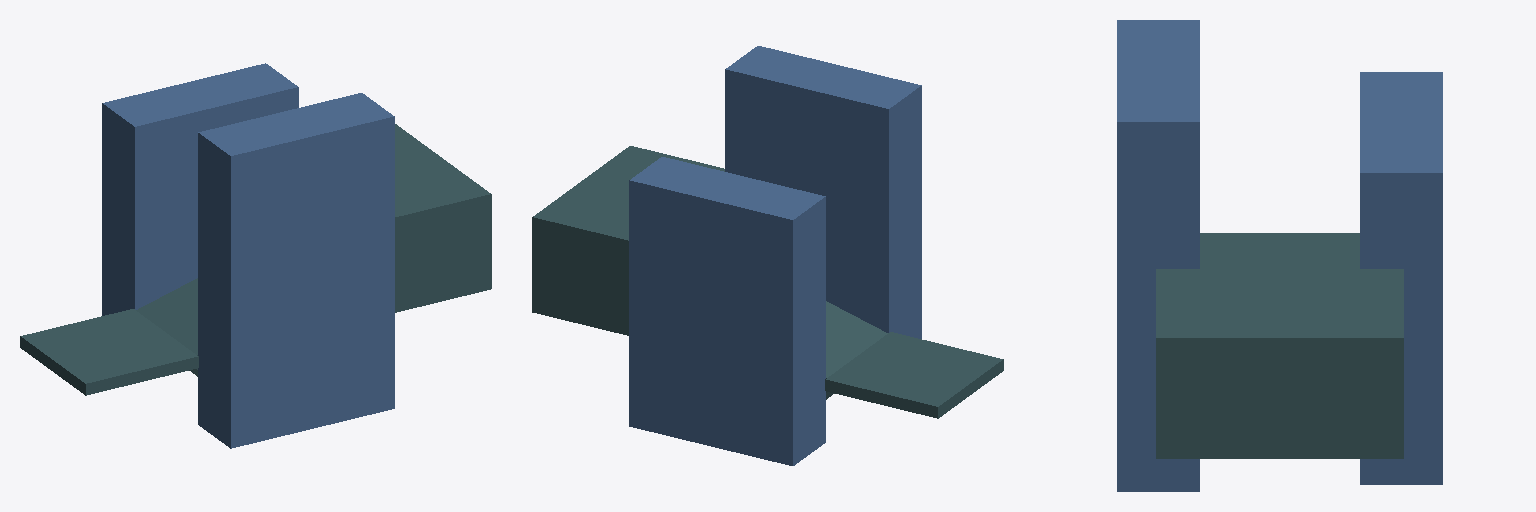
The robot description file, URDF, robot "crapahut":
<?xml version="1.0" ?>
<robot name="crapahut">
  <link name="base_link" />

    <link name="crapahut_start">
    <visual>
      <geometry>
        <mesh filename="package://mc_env_description/meshes/crapahut/crapahut_start.stl" />
      </geometry>
      <material name="Material.001">
        <color rgba="0.29600000381469727 0.41200000047683716 0.42899999022483826 1" />
      </material>
    </visual>

  </link>
  <joint name="crapahut_start" type="fixed">
    <parent link="base_link" />
    <child link="crapahut_start" />
    <origin rpy="0.0 0.0 0.0" xyz="-0.625 0.0 -0.02500000037252903" />
  </joint>

  <link name="crapahut_goal">
    <visual>
      <geometry>
        <mesh filename="package://mc_env_description/meshes/crapahut/crapahut_goal.stl" />
      </geometry>
      <material name="Material.001">
        <color rgba="0.29600000381469727 0.41200000047683716 0.42899999022483826 1" />
      </material>
    </visual>

  </link>
  <joint name="crapahut_goal" type="fixed">
    <parent link="base_link" />
    <child link="crapahut_goal" />
    <origin rpy="0.0 0.0 0.0" xyz="0.6000000238418579 0.0 0.25" />
  </joint>

  <link name="crapahut_right">
    <visual>
      <geometry>
        <mesh filename="package://mc_env_description/meshes/crapahut/crapahut_right.stl" />
      </geometry>
      <material name="Material">
        <color rgba="0.3555205762386322 0.4744111895561218 0.6266514658927917 1" />
      </material>
    </visual>

  </link>
  <joint name="crapahut_right" type="fixed">
    <parent link="base_link" />
    <child link="crapahut_right" />
    <origin rpy="0.0 0.0 0.0" xyz="-0.009999999776482582 -0.3677527606487274 0.32499998807907104" />
  </joint>

  <link name="crapahut_left">
    <visual>
      <geometry>
        <mesh filename="package://mc_env_description/meshes/crapahut/crapahut_left.stl" />
      </geometry>
      <material name="Material">
        <color rgba="0.3555205762386322 0.4744111895561218 0.6266514658927917 1" />
      </material>
    </visual>

  </link>
  <joint name="crapahut_left" type="fixed">
    <parent link="base_link" />
    <child link="crapahut_left" />
    <origin rpy="0.0 0.0 0.0" xyz="-0.009999999776482582 0.3678433895111084 0.25" />
  </joint>

  <link name="crapahut_ramp">
    <visual>
      <geometry>
        <mesh filename="package://mc_env_description/meshes/crapahut/crapahut_ramp.stl" />
      </geometry>
      <material name="Material.001">
        <color rgba="0.29600000381469727 0.41200000047683716 0.42899999022483826 1" />
      </material>
    </visual>

  </link>
  <joint name="crapahut_ramp" type="fixed">
    <parent link="base_link" />
    <child link="crapahut_ramp" />
    <origin rpy="0.0 -0.2619999945163727 0.0" xyz="-0.011714735068380833 0.0 0.043684929609298706" />
  </joint>

</robot>

--- Facts derived from the render (not from the file) ---
The picture shows the robot from 3 angles, left to right: view 1: azimuth 30°, elevation 25°; view 2: azimuth 150°, elevation 25°; view 3: azimuth 270°, elevation 25°; orthographic projection.
Model crapahut with 6 links and 5 joints (5 fixed), rooted at base_link, posed every joint at zero.
Visible links, largest first — view 1: crapahut_right, crapahut_left, crapahut_goal, crapahut_start, crapahut_ramp; view 2: crapahut_left, crapahut_right, crapahut_goal, crapahut_start, crapahut_ramp; view 3: crapahut_goal, crapahut_right, crapahut_left, crapahut_start.
Boxes of the visible links, x1,y1,x2,y2 form: crapahut_right: [198, 93, 394, 448]; crapahut_left: [102, 63, 298, 315]; crapahut_goal: [395, 124, 491, 312]; crapahut_start: [20, 309, 198, 395]; crapahut_ramp: [136, 278, 197, 376]; crapahut_left: [629, 157, 825, 465]; crapahut_right: [725, 46, 921, 338]; crapahut_goal: [532, 146, 724, 335]; crapahut_start: [825, 332, 1003, 418]; crapahut_ramp: [826, 301, 887, 399]; crapahut_goal: [1156, 268, 1403, 458]; crapahut_right: [1117, 20, 1199, 491]; crapahut_left: [1360, 72, 1442, 484]; crapahut_start: [1200, 233, 1359, 267].
Bounding box of the posed robot: 1.73 × 0.9856 × 1.24 m (x, y, z).
Meshes: 5 distinct files referenced, 5 mesh visuals loaded (5 binary STL).